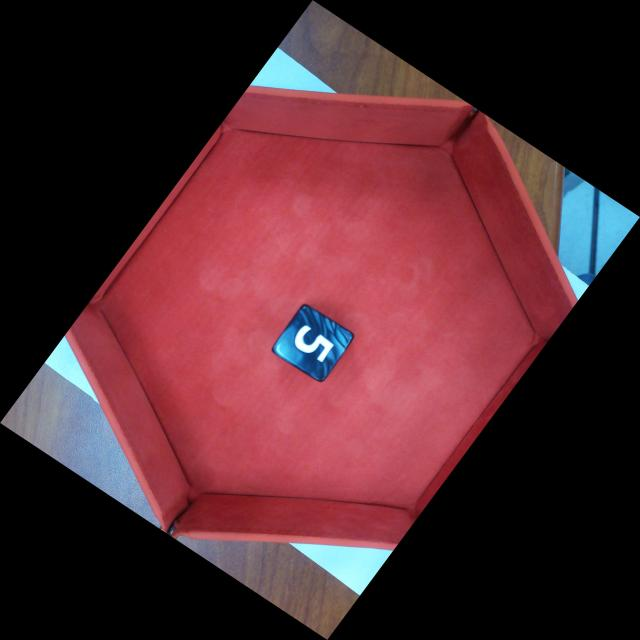dice: (272, 304, 355, 383)
